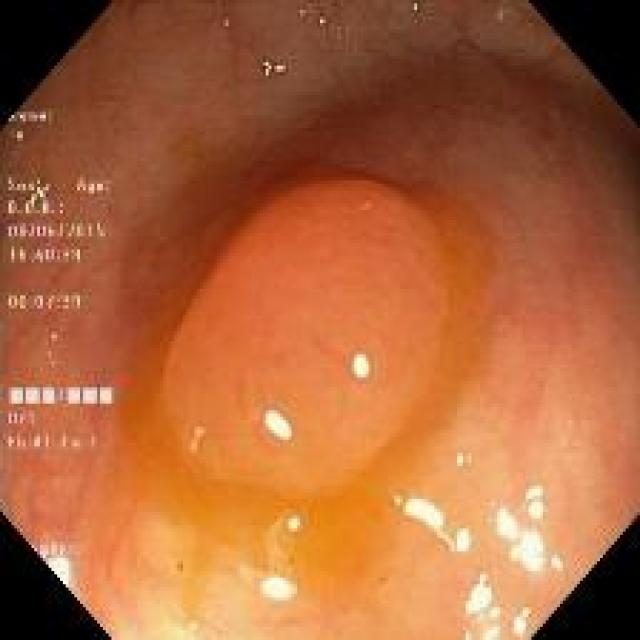Polyps: (164, 181, 448, 497)
